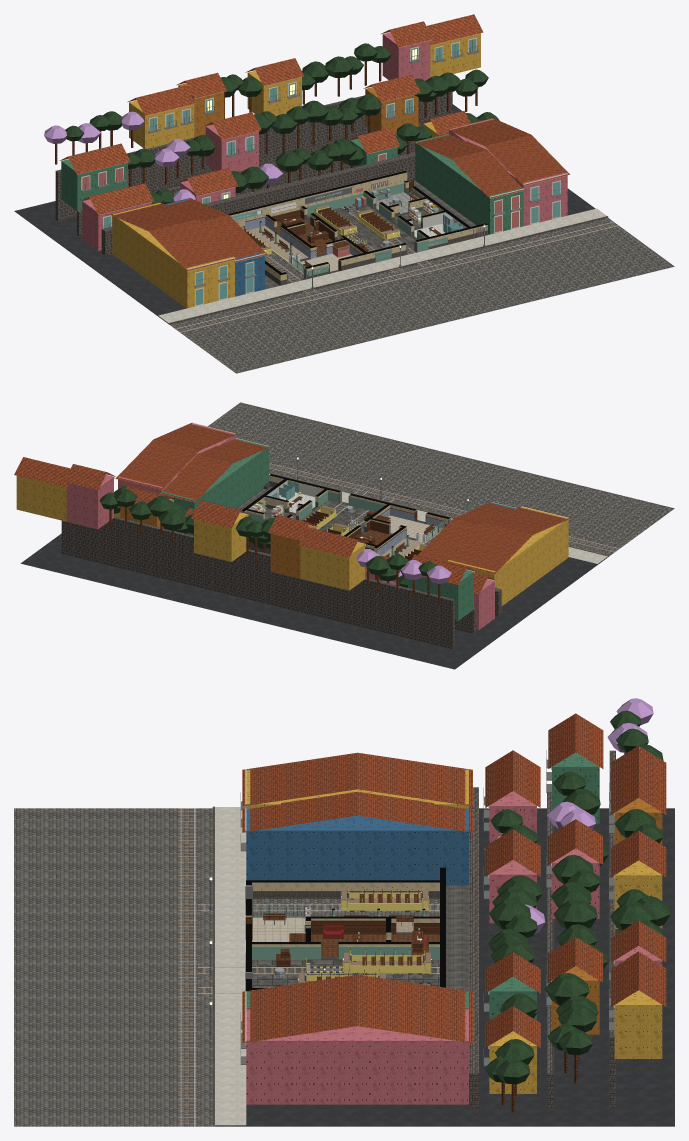
The model's file is bondes.glb.
3 renders of one model, top to bottom at view 1: azimuth 30°, elevation 25°; view 2: azimuth 150°, elevation 25°; view 3: azimuth 270°, elevation 25°, orthographic. The views are drawn at different scales.
Parts seen in each view (by area): view 1: Lapa_paralelepipedo, Lapa_stonewall, Lapa_side_roof, Lapa_foliage, Lapa_roof, Lapa_side_facade_yellow, Lapa_asphalt, Lapa_pedra, Lapa_facade_pink, Lapa_facade_yellow, Lapa_wood, Lapa_side_facade_green (+22 smaller); view 2: Lapa_paralelepipedo, Lapa_stonewall, Lapa_asphalt, Lapa_side_roof, Lapa_facade_yellow, Lapa_roof, Lapa_foliage, Lapa_side_facade_yellow, Lapa_facade_pink, Lapa_side_facade_green, Lapa_wood, Lapa_ochre (+14 smaller); view 3: Lapa_paralelepipedo, Lapa_asphalt, Lapa_side_roof, Lapa_roof, Lapa_foliage, Lapa_side_facade_pink, Lapa_side_facade_blue, Lapa_pedra, Lapa_stonewall, Lapa_facade_yellow, Lapa_sleeper, Lapa_wood (+15 smaller).
Boxes of the visible parts, <box> form: Lapa_paralelepipedo: <box>169,218,674,373</box>; Lapa_stonewall: <box>55,91,608,324</box>; Lapa_side_roof: <box>110,118,569,270</box>; Lapa_foliage: <box>65,43,499,203</box>; Lapa_roof: <box>59,14,483,214</box>; Lapa_side_facade_yellow: <box>112,203,234,308</box>; Lapa_asphalt: <box>14,104,595,324</box>; Lapa_pedra: <box>158,208,606,322</box>; Lapa_facade_pink: <box>82,32,430,250</box>; Lapa_facade_yellow: <box>129,33,480,148</box>; Lapa_wood: <box>55,61,477,273</box>; Lapa_side_facade_green: <box>415,134,523,234</box>; Lapa_paralelepipedo: <box>208,402,674,557</box>; Lapa_stonewall: <box>61,473,608,649</box>; Lapa_asphalt: <box>20,488,607,669</box>; Lapa_side_roof: <box>115,422,570,574</box>; Lapa_facade_yellow: <box>16,476,365,590</box>; Lapa_roof: <box>14,457,496,594</box>; Lapa_foliage: <box>100,486,436,587</box>; Lapa_side_facade_yellow: <box>447,506,568,605</box>; Lapa_facade_pink: <box>66,475,494,629</box>; Lapa_side_facade_green: <box>161,438,268,512</box>; Lapa_wood: <box>109,496,444,604</box>; Lapa_ochre: <box>120,499,316,578</box>; Lapa_paralelepipedo: <box>14,808,439,1126</box>; Lapa_asphalt: <box>215,808,674,1126</box>; Lapa_side_roof: <box>242,752,472,1043</box>; Lapa_roof: <box>485,713,666,1047</box>; Lapa_foliage: <box>484,710,670,1084</box>; Lapa_side_facade_pink: <box>246,1009,468,1104</box>; Lapa_side_facade_blue: <box>246,808,468,884</box>; Lapa_pedra: <box>215,807,246,1125</box>; Lapa_stonewall: <box>212,750,615,1124</box>; Lapa_facade_yellow: <box>489,860,662,1093</box>; Lapa_sleeper: <box>178,808,438,1124</box>; Lapa_wood: <box>245,752,626,1112</box>.
Size of the model in its own units: 61.28 by 13.3 by 52.65.
Materials: 61 (29 with a texture image).
